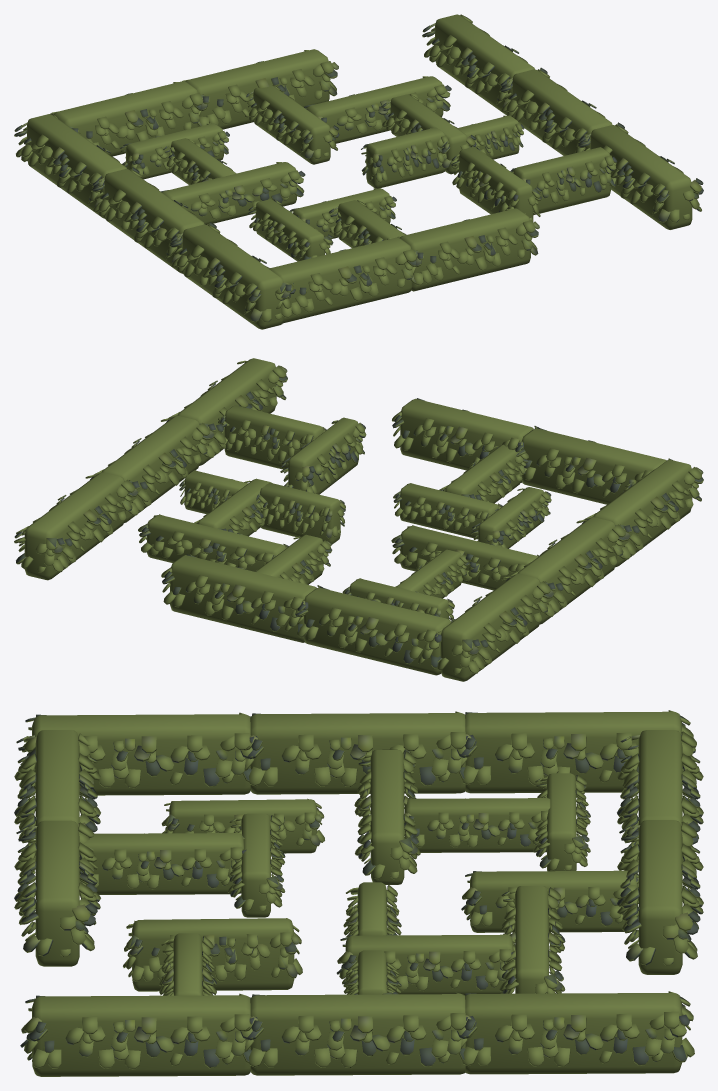
The model's file is Labyrinthe.fbx.
The picture shows the model from 3 angles, top to bottom: view 1: azimuth 30°, elevation 25°; view 2: azimuth 150°, elevation 25°; view 3: azimuth 270°, elevation 25°; orthographic projection. The views are drawn at different scales.
Parts seen in each view (by area): view 1: Labyrinthe; view 2: Labyrinthe; view 3: Labyrinthe.
Part boxes in pixels (x1,y1,x2,y2): Labyrinthe: (14, 14, 703, 329); Labyrinthe: (14, 358, 703, 681); Labyrinthe: (14, 710, 703, 1076).
Size of the model in its own units: 2271 by 228 by 2064.
